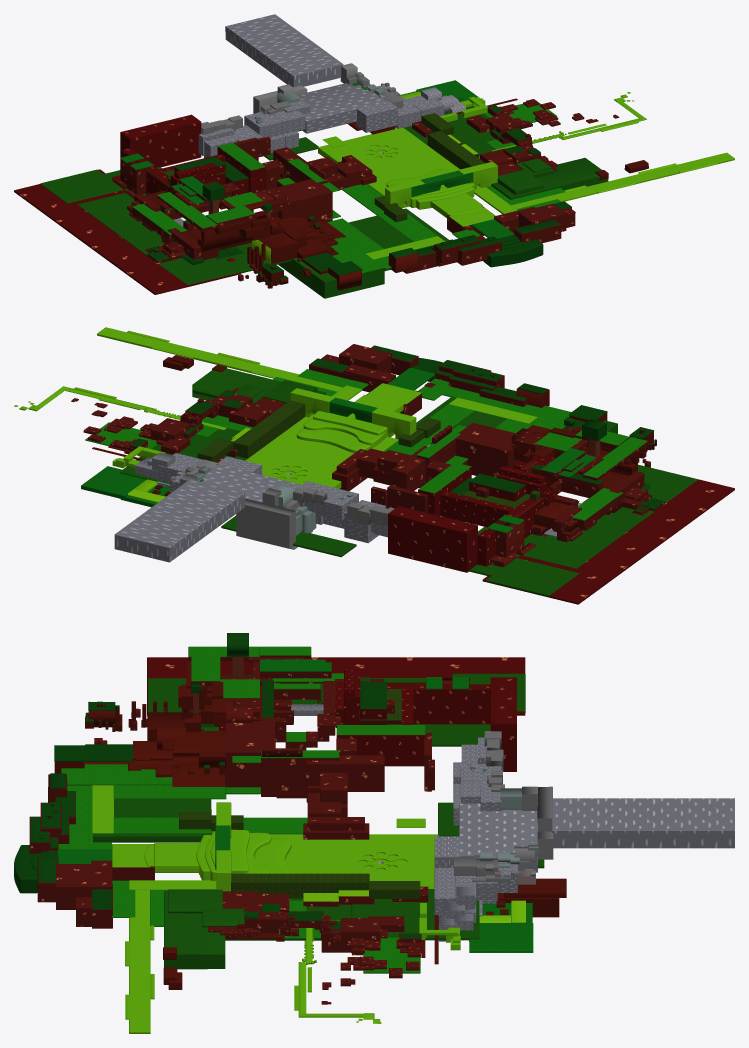
Rendered from LevelMainPlazaNoCollidersCombinedFinal2.fbx.
3 renders of one model, top to bottom at view 1: azimuth 30°, elevation 25°; view 2: azimuth 150°, elevation 25°; view 3: azimuth 270°, elevation 25°, orthographic. The views are drawn at different scales.
Visible parts, largest first — view 1: polySurface508, polySurface344, polySurface360, polySurface494, polySurface403, polySurface182; view 2: polySurface344, polySurface360, polySurface508, polySurface494, polySurface182, polySurface403; view 3: polySurface508, polySurface344, polySurface360, polySurface403, polySurface182, polySurface494.
Boxes of the visible parts, box(x1,y1,x2,y2) form: polySurface508: box(249, 152, 734, 298); polySurface344: box(120, 14, 487, 167); polySurface360: box(318, 92, 646, 222); polySurface494: box(14, 154, 292, 294); polySurface403: box(217, 136, 376, 245); polySurface182: box(100, 148, 253, 255); polySurface344: box(81, 446, 477, 572); polySurface360: box(14, 384, 440, 488); polySurface508: box(97, 327, 617, 457); polySurface494: box(440, 419, 734, 604); polySurface182: box(446, 448, 654, 575); polySurface403: box(332, 423, 555, 515); polySurface508: box(14, 683, 307, 1033); polySurface344: box(420, 677, 734, 952); polySurface360: box(179, 802, 479, 1023); polySurface403: box(155, 698, 434, 839); polySurface182: box(248, 646, 490, 750); polySurface494: box(85, 633, 525, 731).
Size of the model in its own units: 463 by 58.09 by 377.
